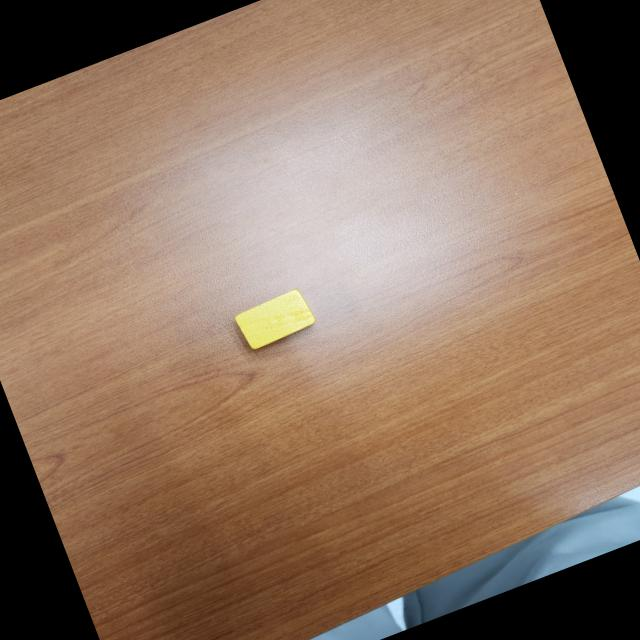yellow: (230, 284, 320, 354)
